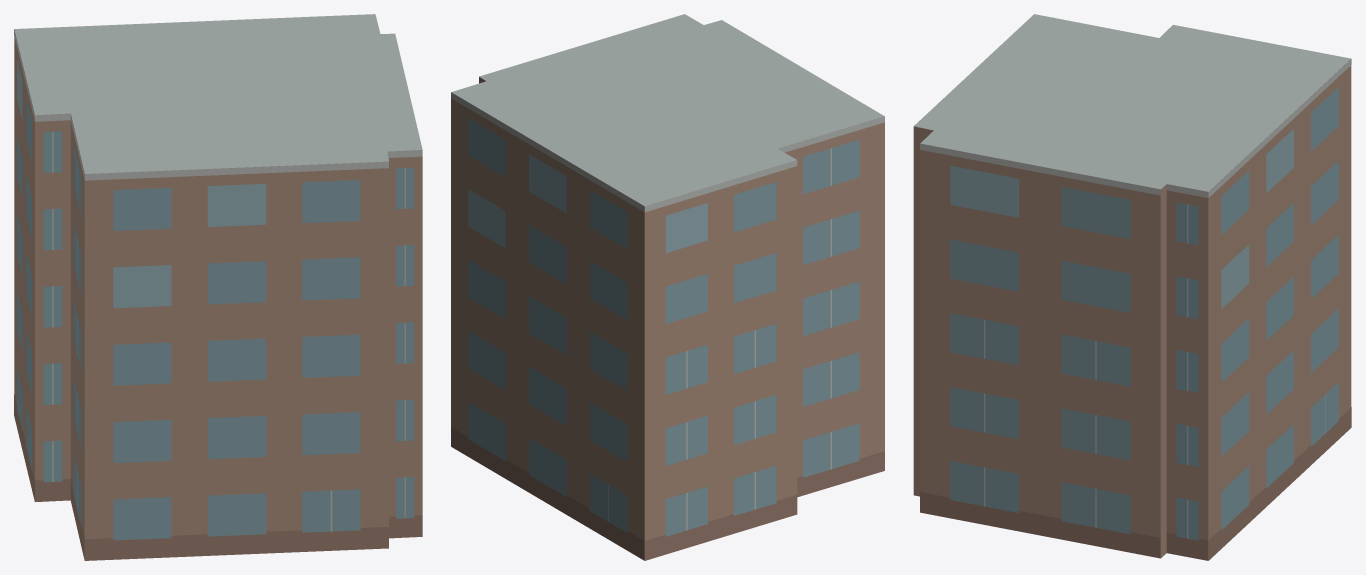
File: survey-upis-32476140.glb
3 views of the same model, side by side, from view 1: azimuth 30°, elevation 25°; view 2: azimuth 150°, elevation 25°; view 3: azimuth 270°, elevation 25° (orthographic). The views are drawn at different scales.
Parts seen in each view (by area): view 1: survey-upis-32476140.tmp; view 2: survey-upis-32476140.tmp; view 3: survey-upis-32476140.tmp.
Part boxes in pixels (box(x1,y1,x2,y2)): survey-upis-32476140.tmp: box(14, 14, 422, 560); survey-upis-32476140.tmp: box(451, 14, 884, 560); survey-upis-32476140.tmp: box(913, 14, 1351, 560).
Bounding box in the file's own units: 14.79 × 14.3 × 15.39.
